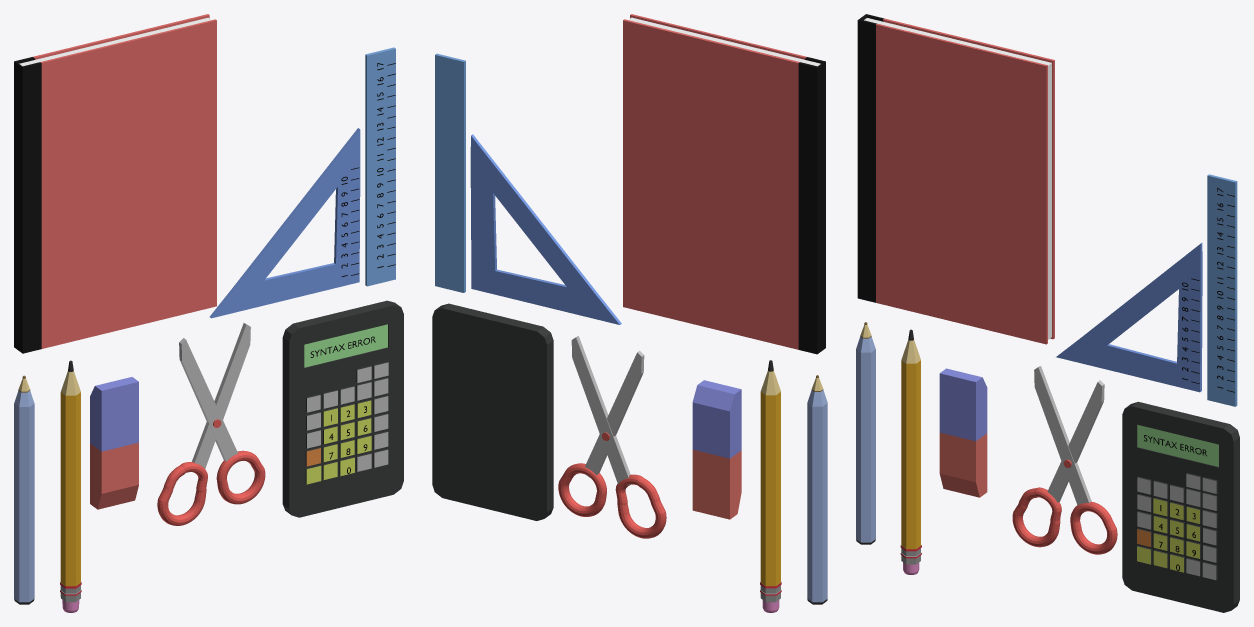
The model's file is icode-model.glb.
3 views of the same model, side by side, from view 1: azimuth 30°, elevation 25°; view 2: azimuth 150°, elevation 25°; view 3: azimuth 330°, elevation 25° (orthographic). The views are drawn at different scales.
Parts seen in each view (by area): view 1: Cubo.004, Cubo.001, Cubo.003, Cubo.002, Torus.001, Cubo, Cilindro, Cilindro.001; view 2: Cubo.004, Cubo.001, Cubo.003, Cubo.002, Torus.001, Cubo, Cilindro, Cilindro.001; view 3: Cubo.004, Cubo.001, Cubo.003, Cubo.002, Torus.001, Cubo, Cilindro, Cilindro.001.
Boxes of the visible parts, x1=… form: Cubo.004: x1=14, y1=14, x2=216, y2=353; Cubo.001: x1=282, y1=300, x2=403, y2=517; Cubo.003: x1=209, y1=128, x2=360, y2=318; Cubo.002: x1=365, y1=47, x2=395, y2=286; Torus.001: x1=157, y1=323, x2=265, y2=525; Cubo: x1=90, y1=377, x2=138, y2=509; Cilindro: x1=60, y1=360, x2=81, y2=612; Cilindro.001: x1=14, y1=375, x2=34, y2=604; Cubo.004: x1=623, y1=14, x2=825, y2=354; Cubo.001: x1=432, y1=303, x2=553, y2=520; Cubo.003: x1=470, y1=134, x2=621, y2=324; Cubo.002: x1=435, y1=53, x2=465, y2=292; Torus.001: x1=558, y1=336, x2=666, y2=538; Cubo: x1=692, y1=380, x2=741, y2=519; Cilindro: x1=760, y1=360, x2=781, y2=612; Cilindro.001: x1=807, y1=375, x2=827, y2=604; Cubo.004: x1=857, y1=14, x2=1054, y2=344; Cubo.001: x1=1122, y1=401, x2=1239, y2=612; Cubo.003: x1=1056, y1=243, x2=1202, y2=392; Cubo.002: x1=1207, y1=174, x2=1237, y2=406; Torus.001: x1=1012, y1=366, x2=1117, y2=554; Cubo: x1=939, y1=368, x2=987, y2=497; Cilindro: x1=900, y1=329, x2=921, y2=574; Cilindro.001: x1=856, y1=322, x2=875, y2=544.
Bounding box in the file's own units: 3.48 × 4.79 × 0.2643.
